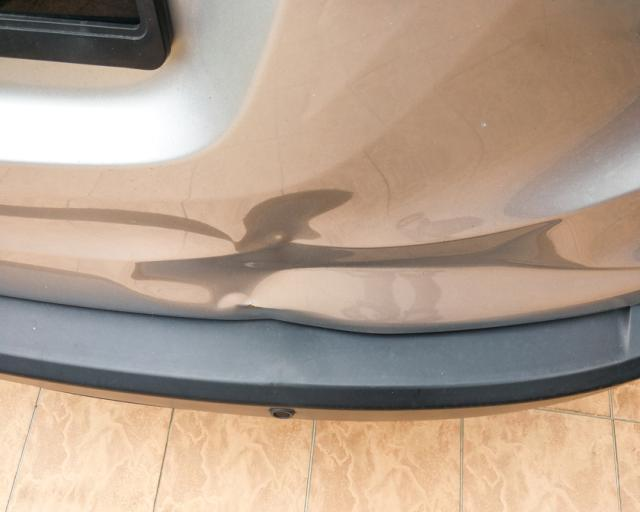dent: (132, 189, 440, 323)
